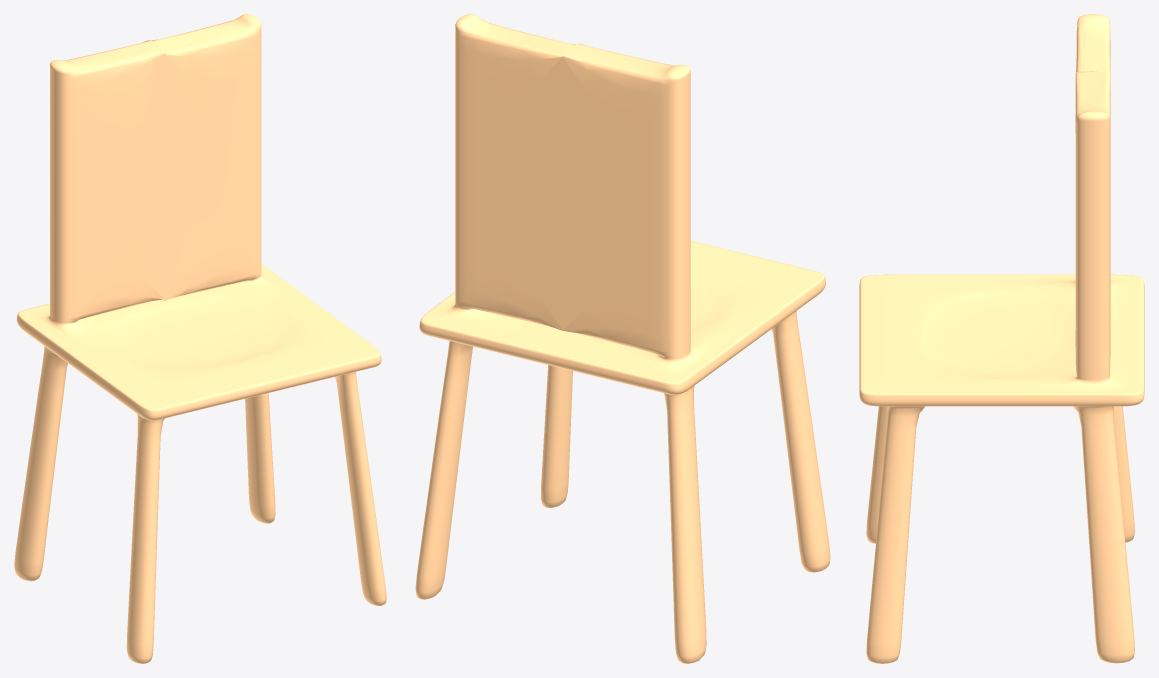
Rendered from chair.fbx.
3 renders of one model, left to right at view 1: azimuth 30°, elevation 25°; view 2: azimuth 150°, elevation 25°; view 3: azimuth 270°, elevation 25°, orthographic. The views are drawn at different scales.
Parts seen in each view (by area): view 1: Cube_001; view 2: Cube_001; view 3: Cube_001.
Boxes of the visible parts, x1=… form: Cube_001: x1=14, y1=14, x2=386, y2=663; Cube_001: x1=415, y1=14, x2=830, y2=663; Cube_001: x1=859, y1=14, x2=1144, y2=663.
Size of the model in its own units: 1.3 by 2.53 by 1.21.
